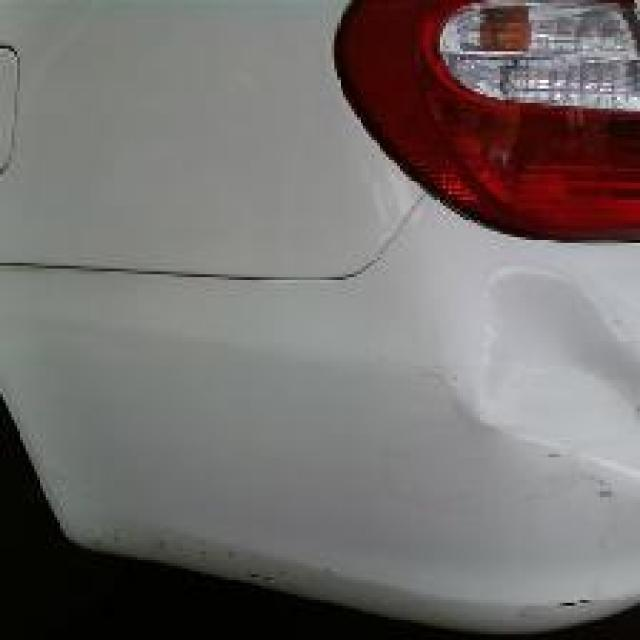damaged: (448, 268, 638, 603), (83, 526, 300, 594)
